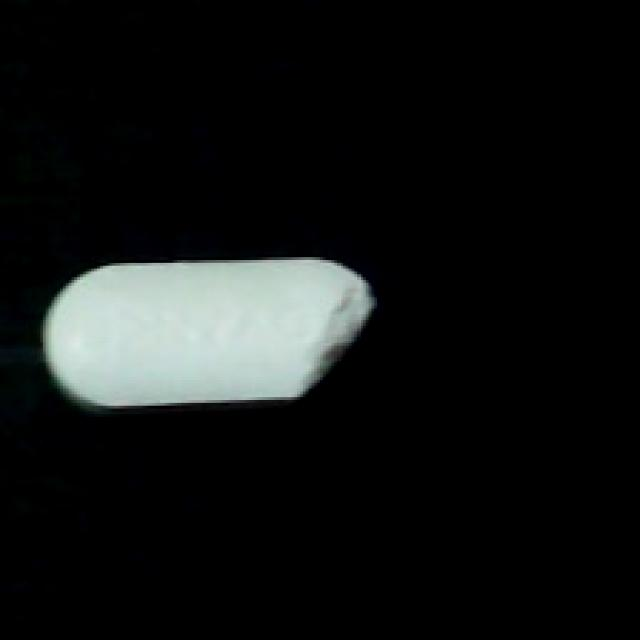defected: (34, 249, 386, 420)
